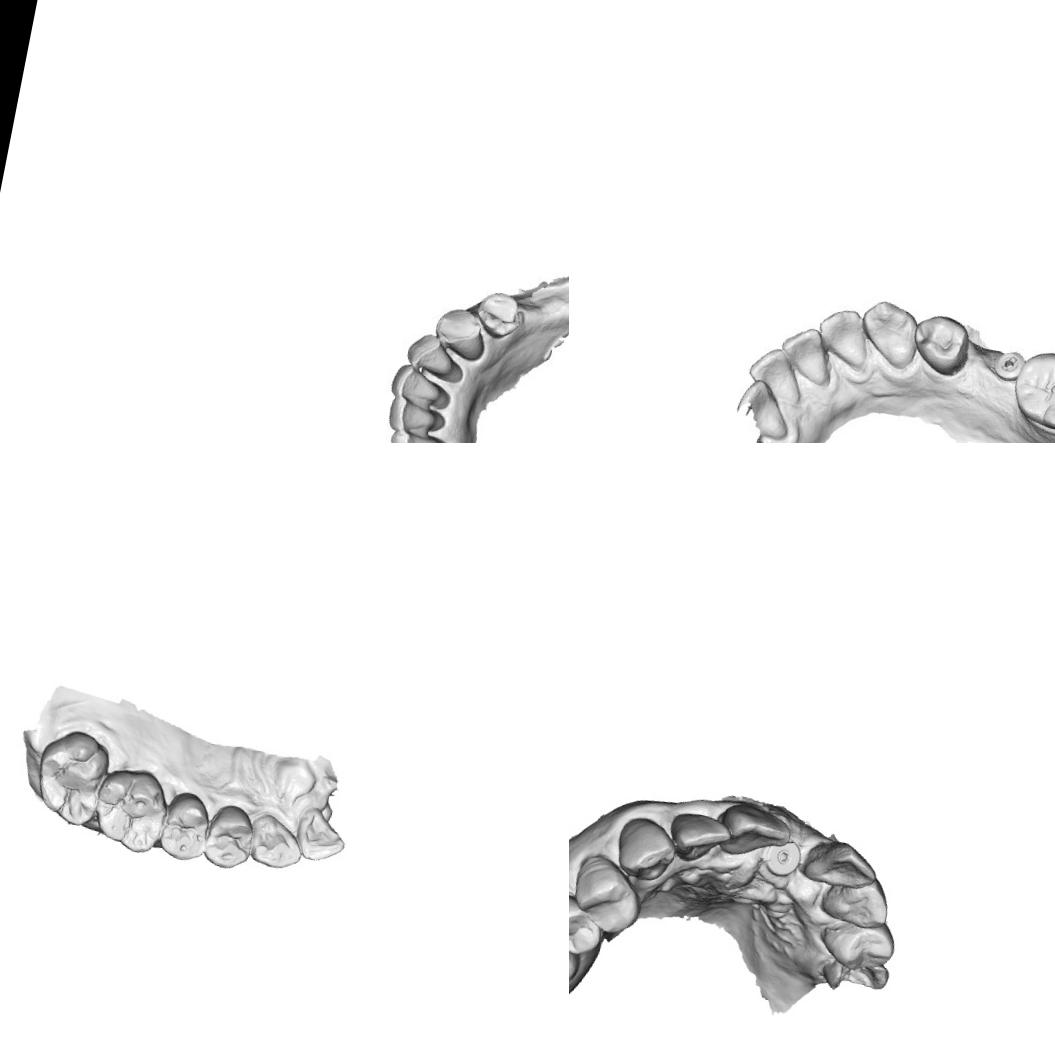canine: (852, 294, 925, 371), (610, 812, 681, 886), (817, 867, 895, 932), (243, 808, 308, 874), (428, 302, 491, 364)
implant: (761, 834, 805, 881)
implant_minus: (987, 345, 1027, 384)
incisor: (714, 798, 795, 864), (798, 833, 882, 894), (740, 340, 812, 409), (774, 320, 838, 390), (664, 806, 734, 870), (810, 302, 873, 372), (291, 804, 350, 866), (401, 327, 462, 382), (386, 359, 448, 413), (381, 393, 443, 443), (386, 423, 446, 443)
molar: (28, 722, 115, 830), (86, 762, 174, 856), (1004, 343, 1055, 437)
premolar: (569, 850, 649, 939), (815, 910, 899, 977), (906, 306, 976, 382), (154, 786, 216, 865), (200, 800, 258, 873), (468, 288, 526, 342), (569, 884, 608, 958)
